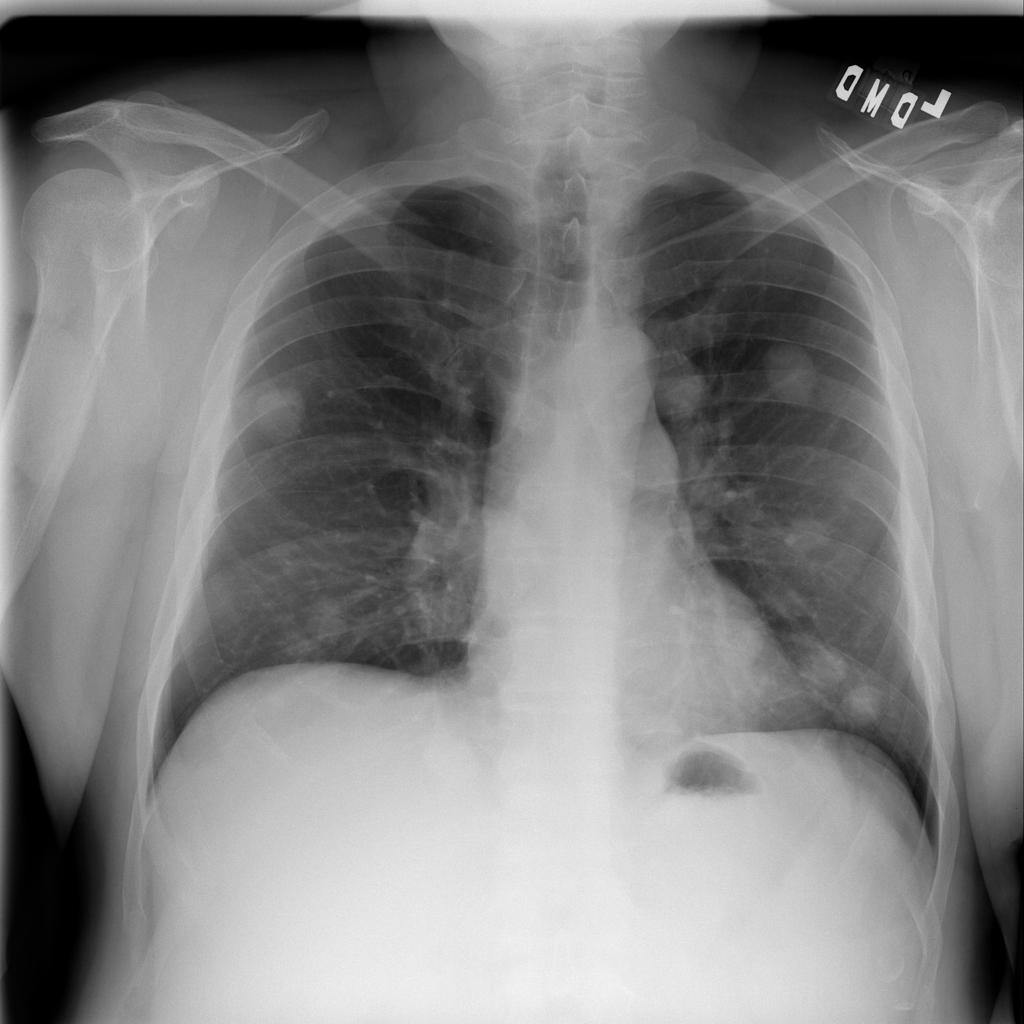nodule: (756, 332, 832, 416), (242, 374, 320, 454), (697, 593, 770, 677), (646, 350, 722, 427), (791, 643, 871, 714), (772, 494, 846, 566), (827, 665, 899, 739), (280, 592, 358, 660), (623, 698, 699, 762), (751, 571, 823, 632)
